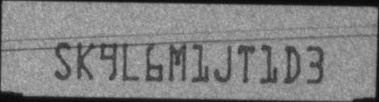1: (259, 42, 278, 84), (191, 41, 209, 82)
3: (306, 43, 324, 85)
6: (145, 42, 164, 82)
9: (99, 41, 118, 80)
D: (282, 43, 301, 84)
G: (214, 41, 233, 83)
K: (77, 40, 94, 79)
L: (121, 43, 140, 80)
M: (167, 43, 187, 82)
S: (53, 42, 72, 80)
T: (237, 43, 255, 83)
